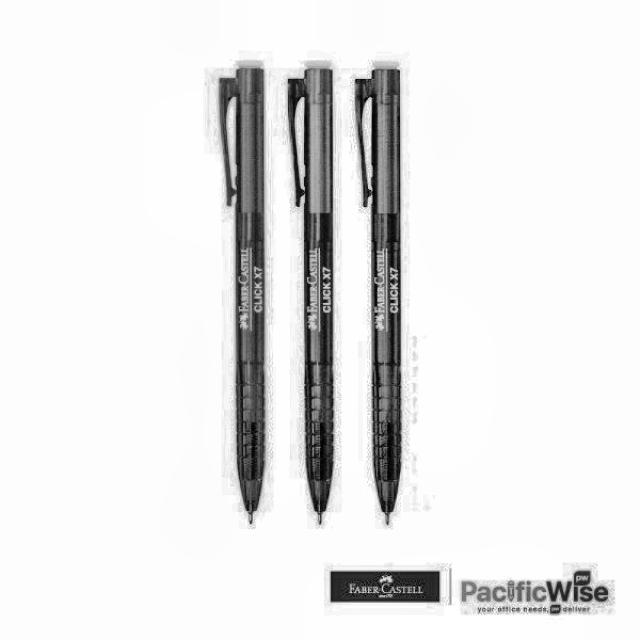Pen: (278, 52, 337, 529), (214, 50, 270, 528), (351, 55, 404, 528)
